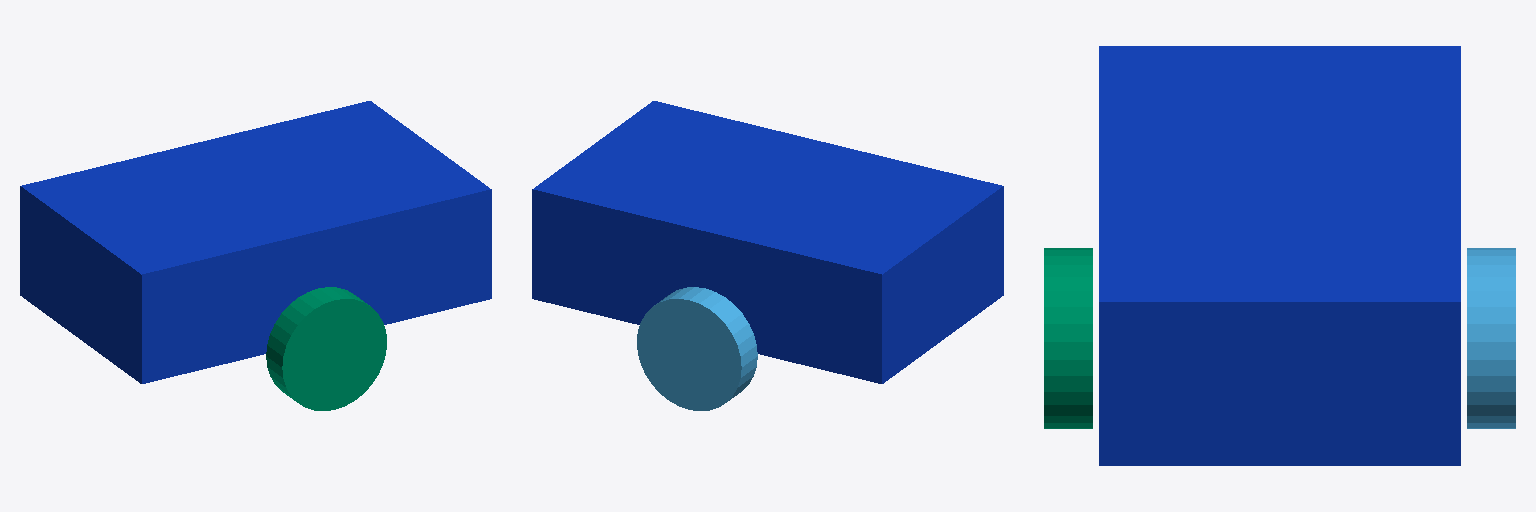
URDF robot description (meu_robo):
<?xml version="1.0"?>

<robot name="meu_robo">

  <!-- Corpo -->
  <link name="base_link">
    <visual>
      <geometry>
        <box size="1.0 0.6 0.3"/>
      </geometry>
      <material name="blue">
        <color rgba="0.1 0.3 0.8 1.0"/>
      </material>
    </visual>

    <collision>
      <geometry>
        <box size="1.0 0.6 0.3"/>
      </geometry>
    </collision>

    <inertial>
      <mass value="1.0"/>
      <inertia
        ixx="0.1"
        ixy="0.0"
        ixz="0.0"
        iyy="0.1"
        iyz="0.0"
        izz="0.1"/>
    </inertial>
  </link>

  <!-- Roda esquerda -->
  <link name="left_wheel">
    <visual>
      <geometry>
        <cylinder radius="0.15" length="0.08"/>
      </geometry>
    </visual>
  </link>

  <!-- Roda direita -->
  <link name="right_wheel">
    <visual>
      <geometry>
        <cylinder radius="0.15" length="0.08"/>
      </geometry>
    </visual>
  </link>

  <!-- Junta da roda esquerda -->
  <joint name="left_wheel_joint" type="fixed">
    <parent link="base_link"/>
    <child link="left_wheel"/>
    <origin xyz="0 0.35 -0.15" rpy="1.5708 0 0"/>
  </joint>

  <!-- Junta da roda direita -->
  <joint name="right_wheel_joint" type="fixed">
    <parent link="base_link"/>
    <child link="right_wheel"/>
    <origin xyz="0 -0.35 -0.15" rpy="1.5708 0 0"/>
  </joint>

</robot>

--- Render facts (derived) ---
The picture shows the robot from 3 angles, left to right: view 1: azimuth 30°, elevation 25°; view 2: azimuth 150°, elevation 25°; view 3: azimuth 270°, elevation 25°; orthographic projection.
Model meu_robo with 3 links and 2 joints (2 fixed), rooted at base_link, posed every joint at zero.
Visible links, largest first — view 1: base_link, right_wheel; view 2: base_link, left_wheel; view 3: base_link, left_wheel, right_wheel.
Boxes of the visible links, x1=… form: base_link: x1=20, y1=101, x2=491, y2=383; right_wheel: x1=266, y1=287, x2=386, y2=410; base_link: x1=532, y1=101, x2=1003, y2=383; left_wheel: x1=637, y1=287, x2=757, y2=410; base_link: x1=1099, y1=46, x2=1460, y2=465; left_wheel: x1=1467, y1=248, x2=1515, y2=428; right_wheel: x1=1044, y1=248, x2=1092, y2=428.
Size in the robot's own frame: 1 by 0.78 by 0.45 metres.
Geometry: primitives only (box / cylinder / sphere), no mesh files.
